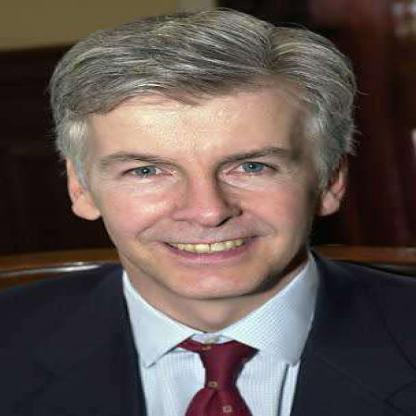face: (92, 39, 325, 302)
